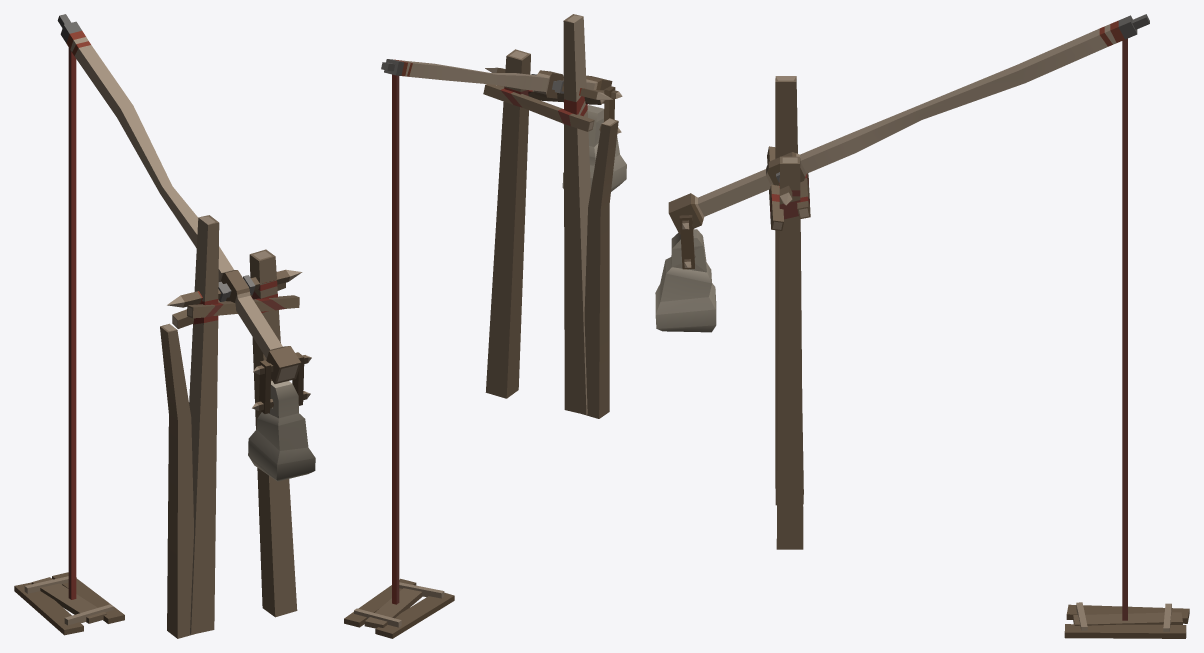
File: SF_Prop_Goblin_Crane_01.fbx
3 renders of one model, left to right at view 1: azimuth 30°, elevation 25°; view 2: azimuth 150°, elevation 25°; view 3: azimuth 270°, elevation 25°, orthographic. The views are drawn at different scales.
Visible parts, largest first — view 1: SF_Prop_Goblin_Crane_01; view 2: SF_Prop_Goblin_Crane_01; view 3: SF_Prop_Goblin_Crane_01.
Boxes of the visible parts, left/top/right/bottom form: SF_Prop_Goblin_Crane_01: left=14, top=14, right=315, bottom=638; SF_Prop_Goblin_Crane_01: left=344, top=14, right=626, bottom=638; SF_Prop_Goblin_Crane_01: left=655, top=14, right=1189, bottom=638.
Bounding box in the file's own units: 4.83 × 19.56 × 15.45.
